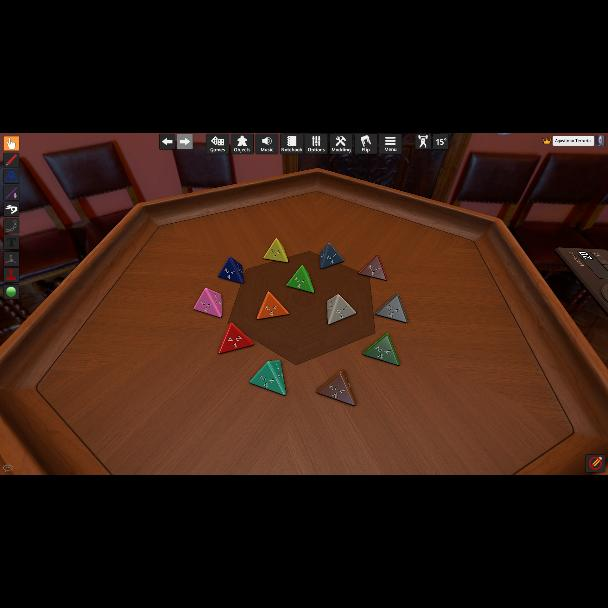d4: (316, 371, 356, 407), (250, 359, 288, 395), (362, 334, 398, 366), (218, 322, 252, 354), (257, 292, 289, 322), (375, 294, 407, 324), (326, 295, 356, 325), (194, 288, 222, 319), (358, 254, 385, 282), (286, 265, 312, 293), (218, 256, 243, 284), (264, 239, 289, 264), (319, 243, 341, 269)
